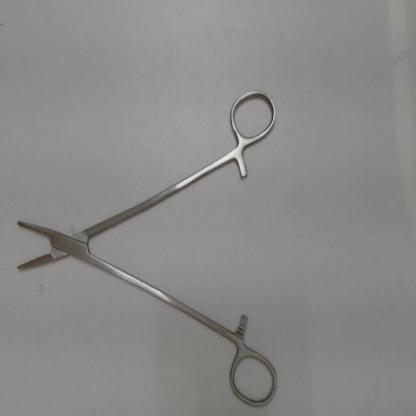8 Mayo Needle Holder: (8, 81, 286, 414)
